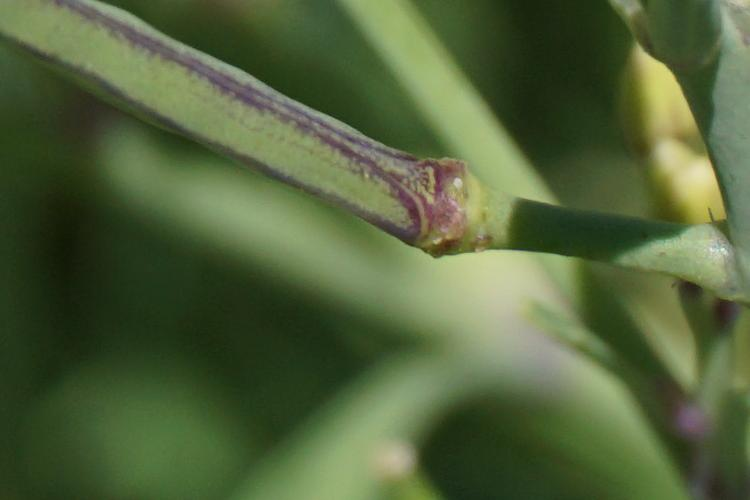pod: (34, 16, 515, 288)
